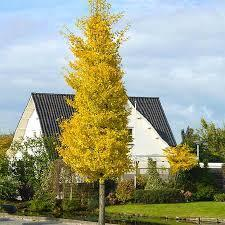tree: (57, 1, 148, 225)
